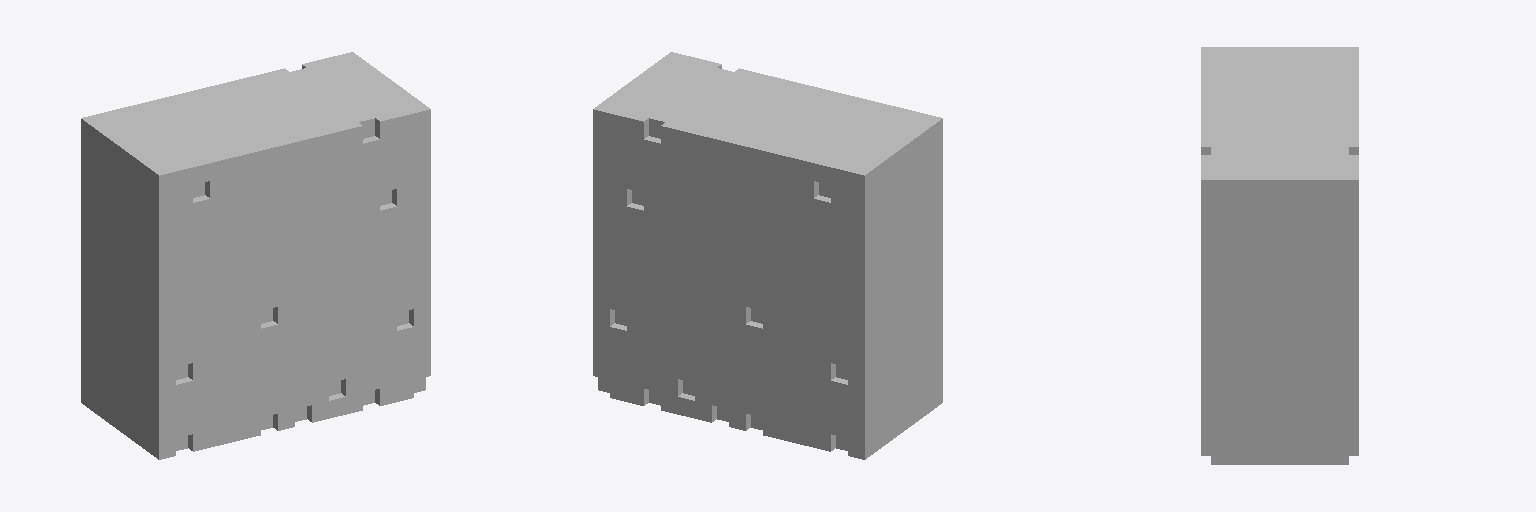
The model's file is block.obj.
3 views of the same model, side by side, from view 1: azimuth 30°, elevation 25°; view 2: azimuth 150°, elevation 25°; view 3: azimuth 270°, elevation 25° (orthographic).
Bounding box in the file's own units: 16 × 16 × 8.